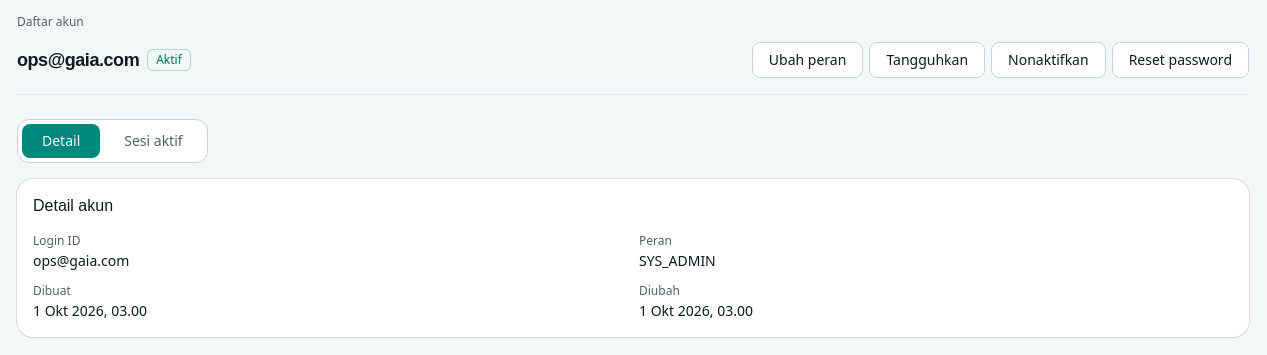
Test: Sesi aktif tab (D4.10) › shows an error with a retry
This screenshot has width=1267, height=355.
Expected: the heading "ops@gaia.com" is shown, [17, 46, 139, 74]
Click the tab "Sesi aktif". click: (154, 141)
box: [104, 124, 203, 158]
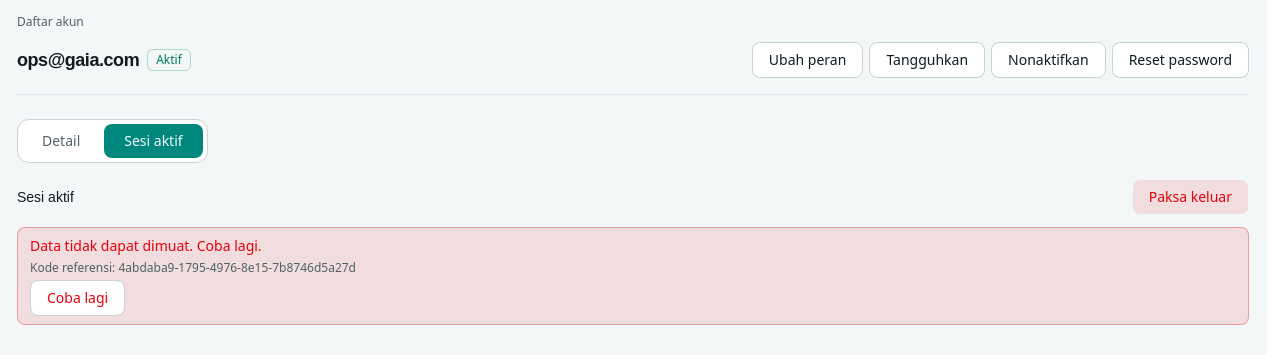
Click the button "Coba lagi". click: (78, 298)
box: [30, 280, 125, 316]
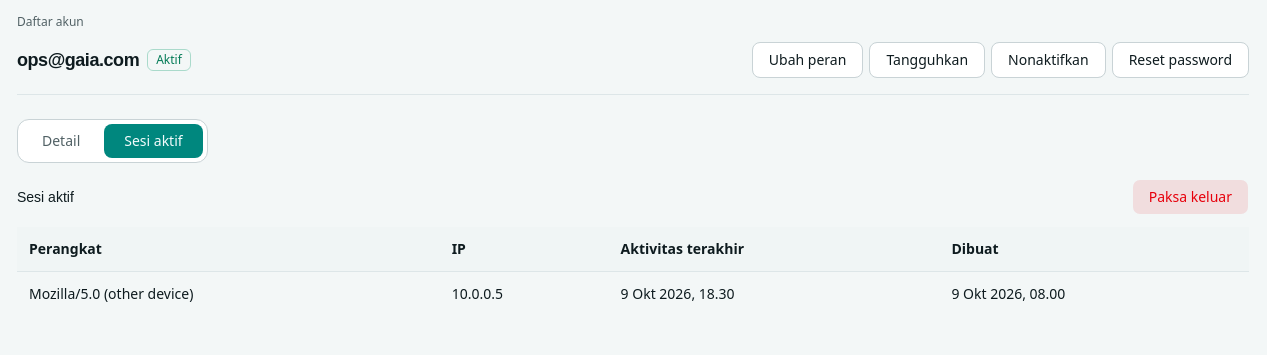
Expected: the text "10.0.0.5" is shown, [440, 271, 609, 316]
